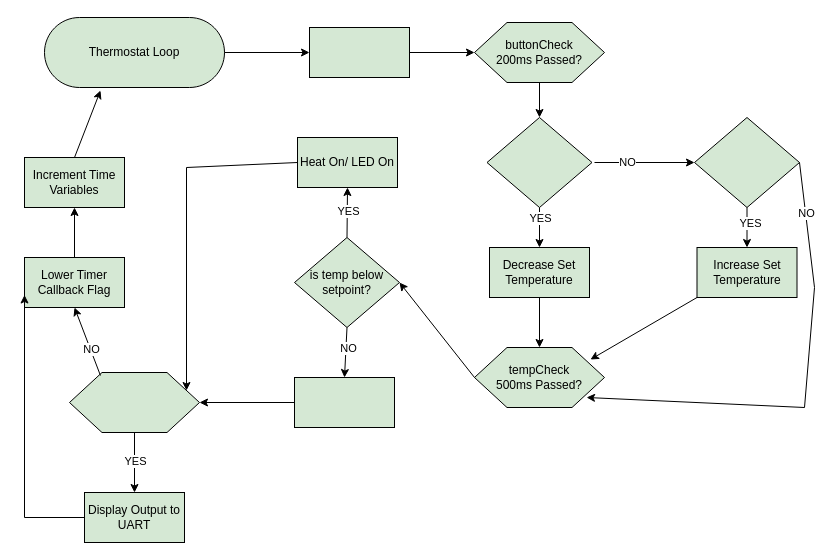
The diagram is 840 pixels wide and 560 high, and some of its shapes have lost their labels. Here are the shapes that lost their labels. From the top down, the box of each, then its label:
(308, 26, 410, 78): readTemp()
(486, 116, 592, 208): Left Button Pressed?
(694, 116, 800, 208): Right Button Pressed?
(68, 372, 200, 432): displayCheck 1000ms passed?
(294, 376, 394, 428): Heat Off/ LED Off
